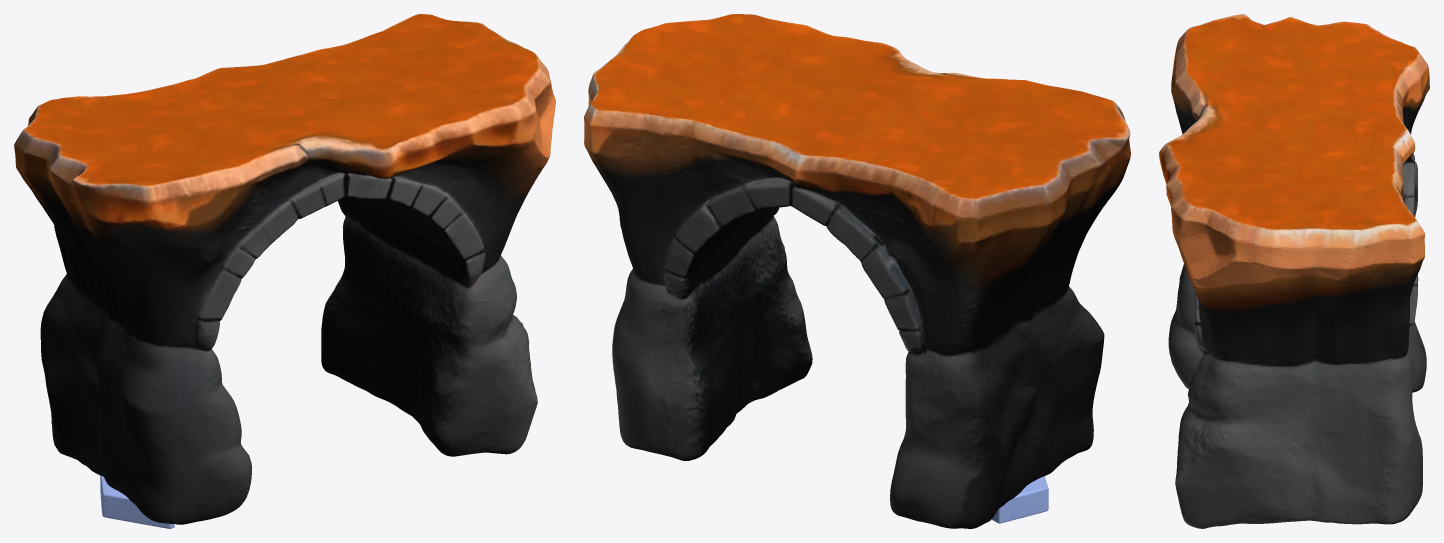
File: landmark_obsidian_arch_01.glb
The picture shows the model from 3 angles, left to right: view 1: azimuth 30°, elevation 25°; view 2: azimuth 150°, elevation 25°; view 3: azimuth 270°, elevation 25°; orthographic projection. The views are drawn at different scales.
Parts seen in each view (by area): view 1: geometry_0; view 2: geometry_0; view 3: geometry_0.
Boxes of the visible parts, <box> form: geometry_0: <box>14,14,555,528</box>; geometry_0: <box>584,14,1130,528</box>; geometry_0: <box>1159,14,1429,528</box>.
Bounding box in the file's own units: 1 × 0.7315 × 0.5186.
1 material, 1 textured.
